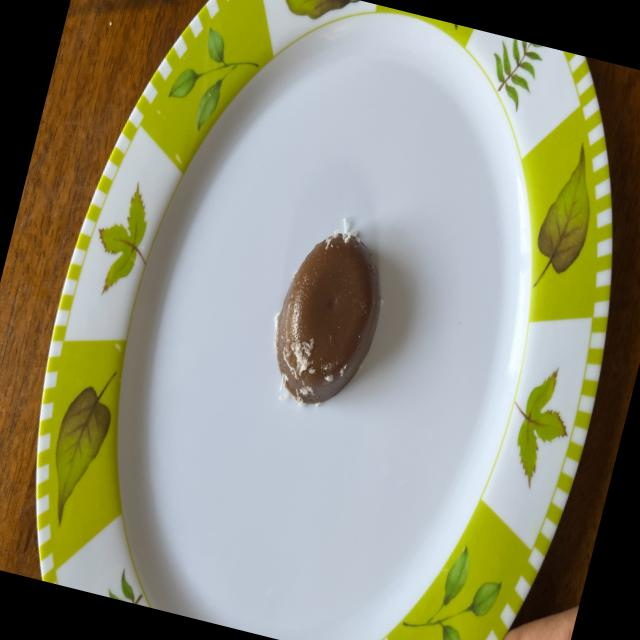Kuih lompang: (275, 230, 380, 404)
